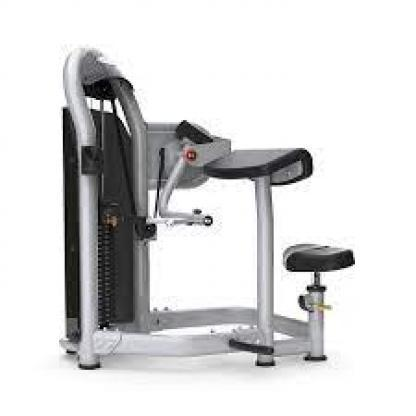arm curl machine: (63, 44, 358, 370)
